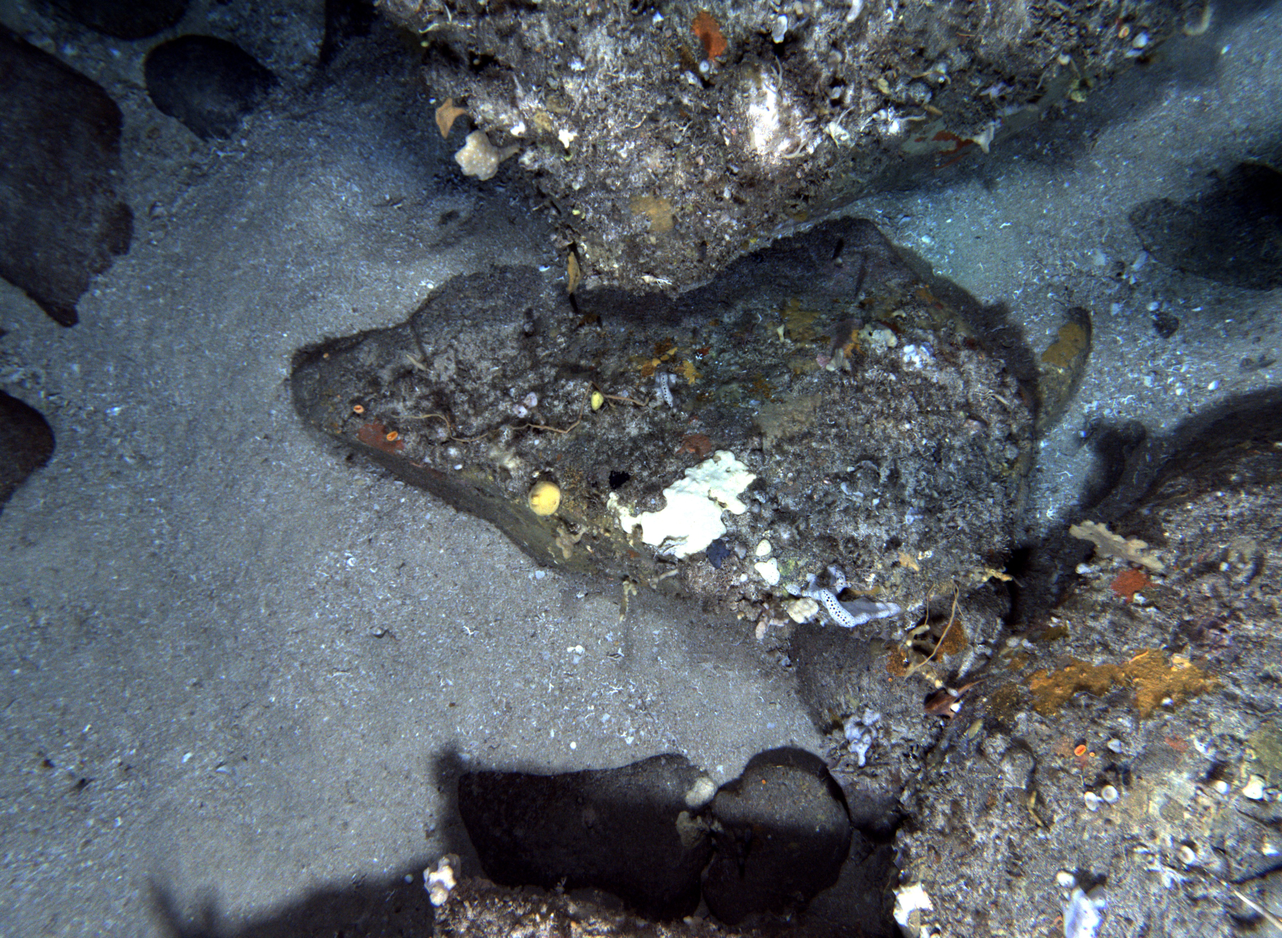Brachionichthyidae: (921, 675, 992, 725)
